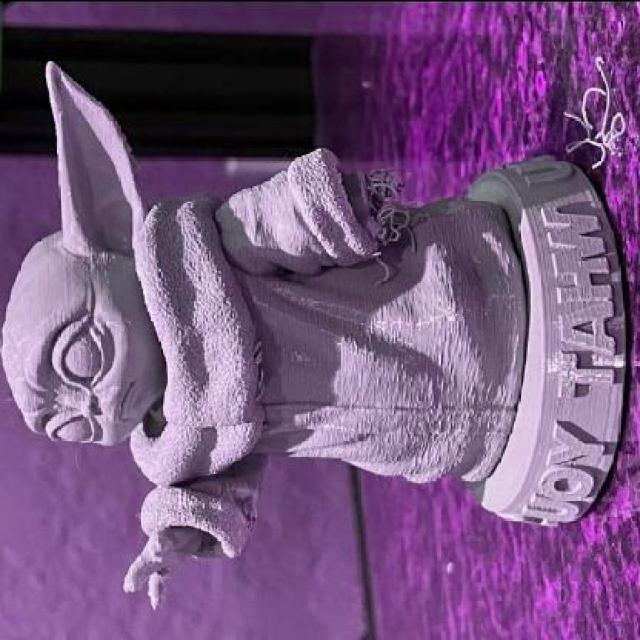Spaghetti: (557, 51, 631, 195), (350, 164, 413, 251)
